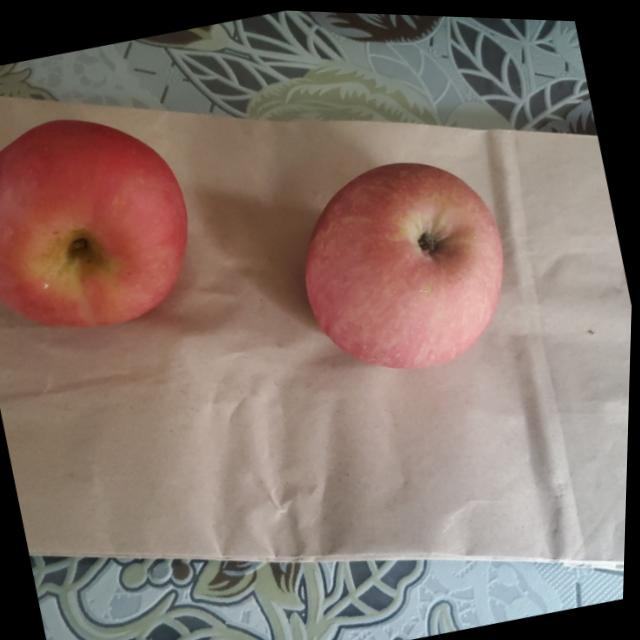apple: (286, 135, 533, 391), (0, 90, 214, 351)
